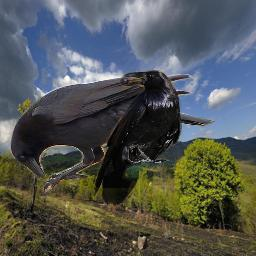Crow: (10, 74, 216, 194), (94, 70, 182, 207)
